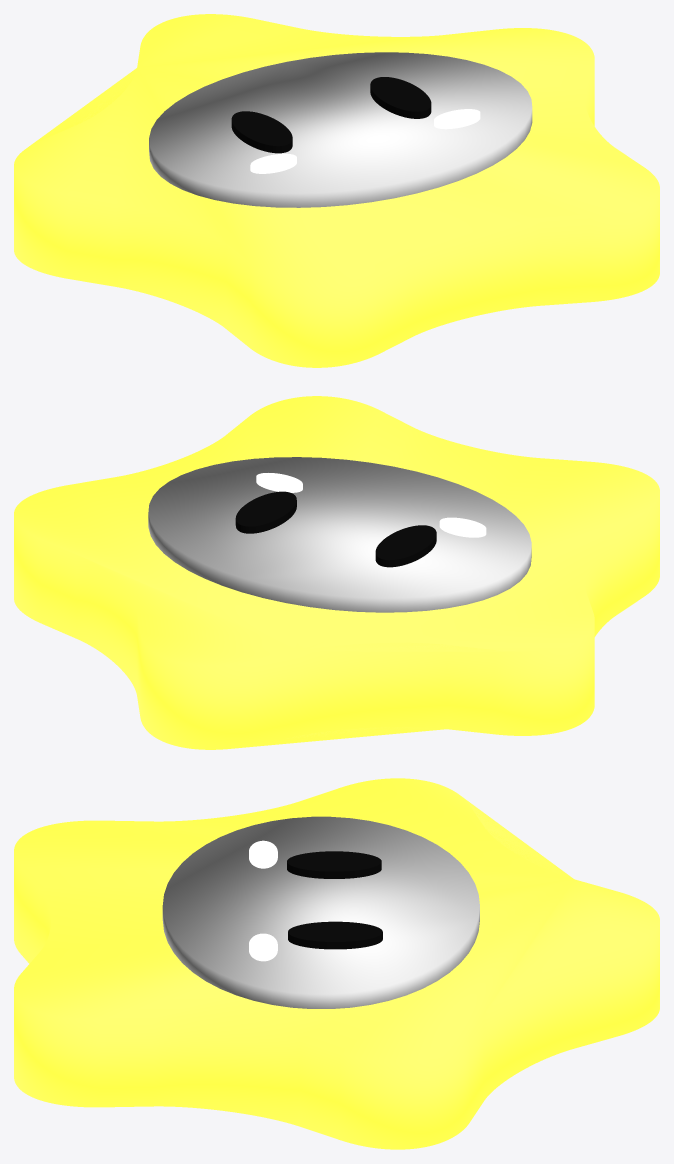
The model's file is Star0221_final.fbx.
3 renders of one model, top to bottom at view 1: azimuth 30°, elevation 25°; view 2: azimuth 150°, elevation 25°; view 3: azimuth 270°, elevation 25°, orthographic. The views are drawn at different scales.
Parts seen in each view (by area): view 1: 원형, 원형.001, 원형.002, 원형.003, 원형.004, 원형.006; view 2: 원형, 원형.001, 원형.002, 원형.003, 원형.004, 원형.006; view 3: 원형, 원형.001, 원형.003, 원형.002, 원형.004, 원형.006.
Part boxes in pixels (x1=…): 원형: x1=14, y1=14, x2=659, y2=367; 원형.001: x1=149, y1=52, x2=532, y2=207; 원형.002: x1=231, y1=111, x2=292, y2=153; 원형.003: x1=370, y1=77, x2=431, y2=118; 원형.004: x1=250, y1=153, x2=296, y2=173; 원형.006: x1=434, y1=109, x2=480, y2=129; 원형: x1=14, y1=396, x2=659, y2=749; 원형.001: x1=148, y1=457, x2=531, y2=612; 원형.002: x1=375, y1=525, x2=436, y2=567; 원형.003: x1=235, y1=491, x2=296, y2=533; 원형.004: x1=439, y1=517, x2=486, y2=537; 원형.006: x1=256, y1=473, x2=302, y2=492; 원형: x1=14, y1=778, x2=659, y2=1149; 원형.001: x1=162, y1=816, x2=479, y2=1008; 원형.003: x1=288, y1=921, x2=382, y2=949; 원형.002: x1=287, y1=851, x2=381, y2=878; 원형.004: x1=249, y1=840, x2=277, y2=868; 원형.006: x1=249, y1=933, x2=277, y2=961.
Size of the model in its own units: 164 by 29.56 by 158.
